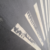zebra: (11, 1, 49, 49)
